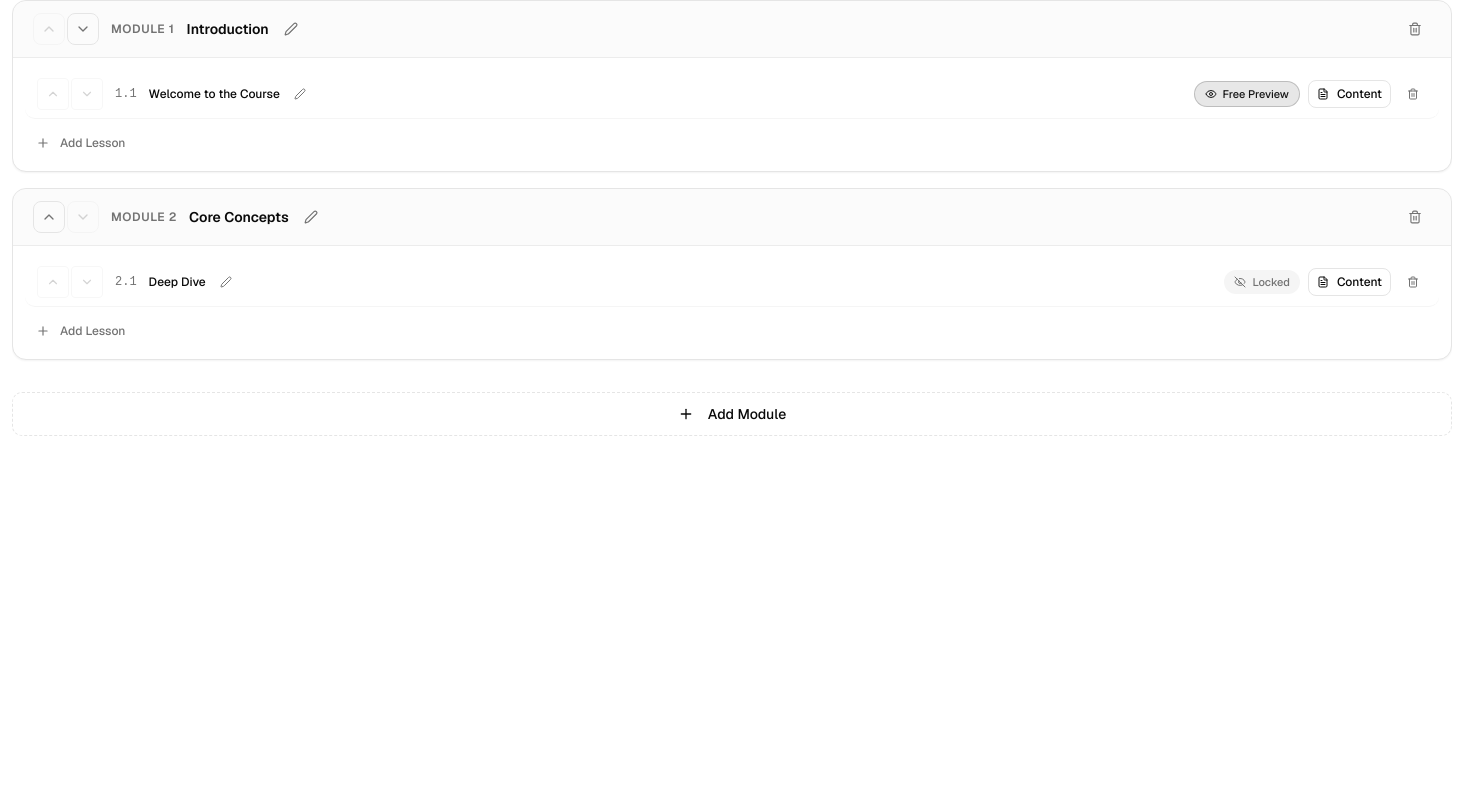
Test case: CurriculumBuilder & PublishButton Component Tests (Task 07) › adding a module immediately updates UI outline upon successful action
Click the button "Add Module".
click(732, 414)  # box [12,392,1452,436]
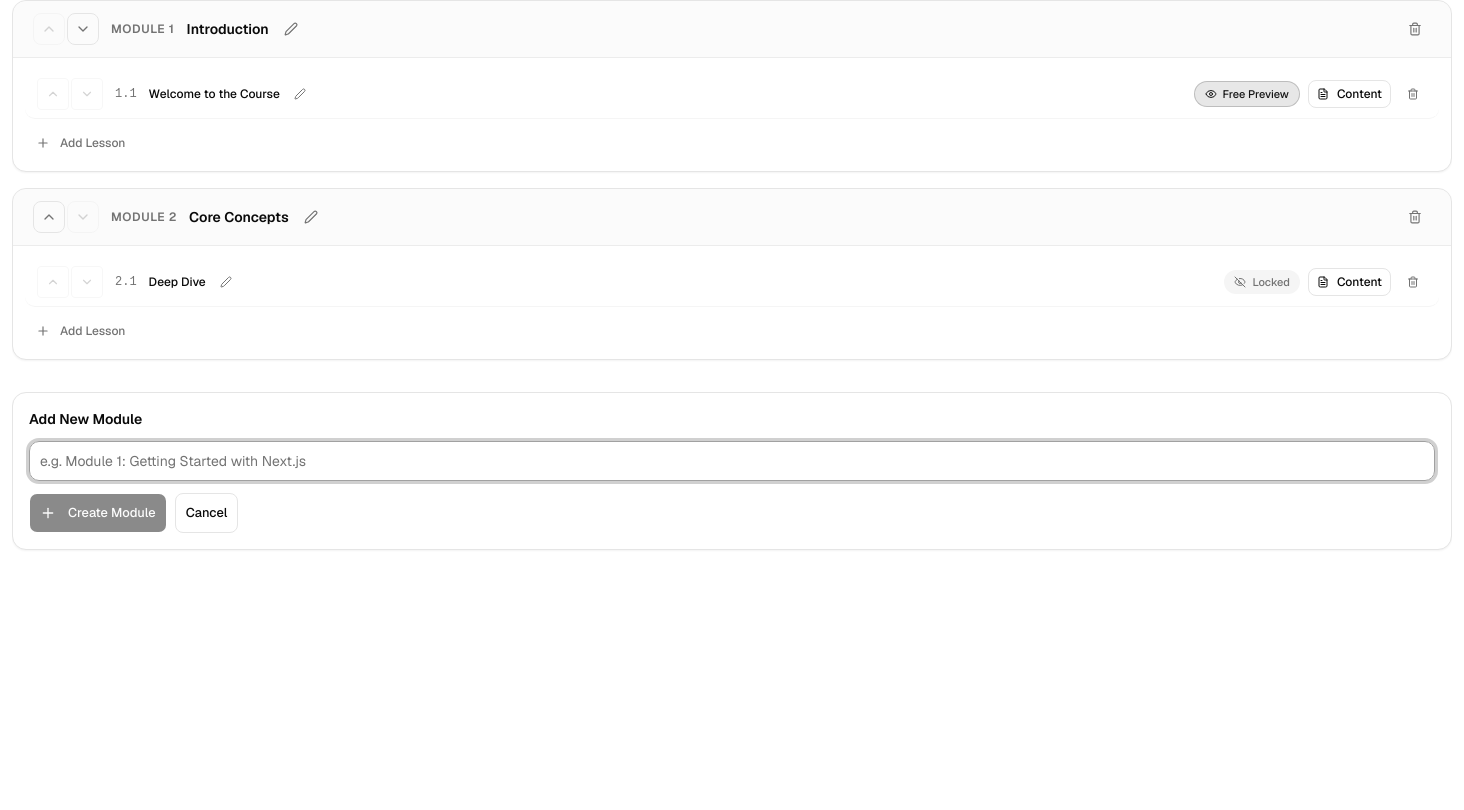
Type "Advanced Topics" into the field with placeholder "e.g. Module 1: Getting Started with Next.js".
click(732, 461); type("Advanced Topics")  # box [29,441,1435,481]
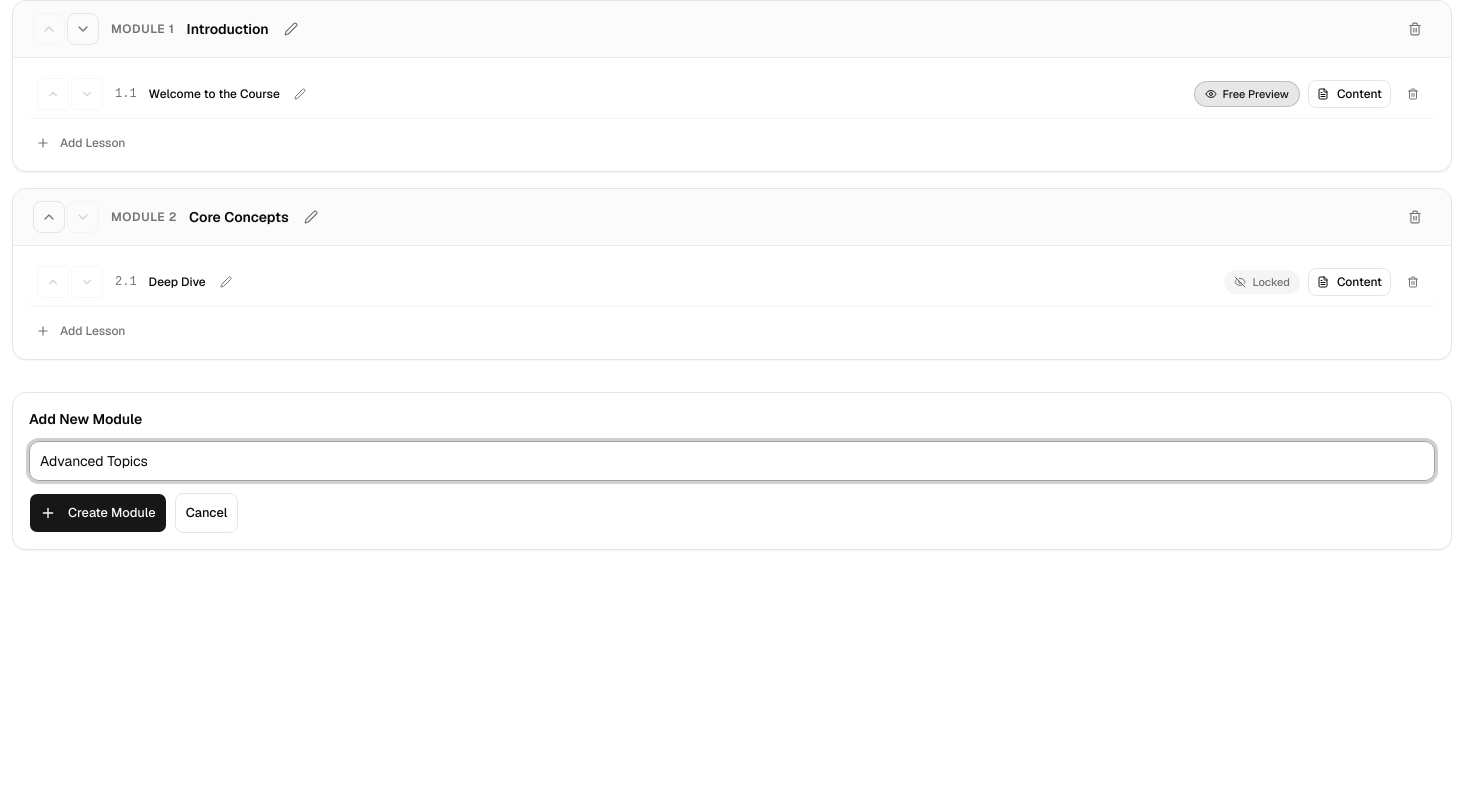
Click the button "Create Module".
click(98, 513)  # box [29,493,167,533]
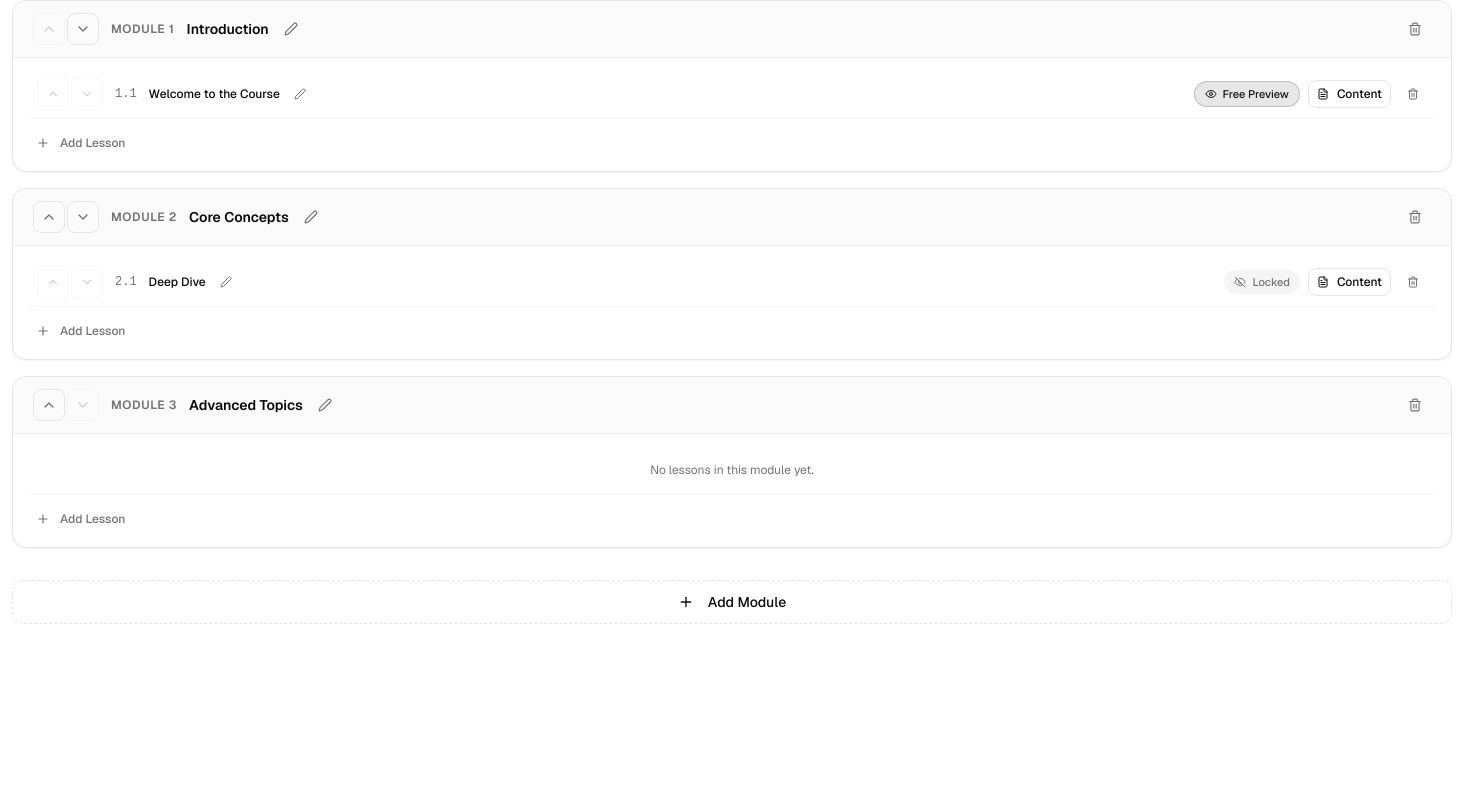
Check: the heading "Advanced Topics" is shown, box [189,395,303,415]
